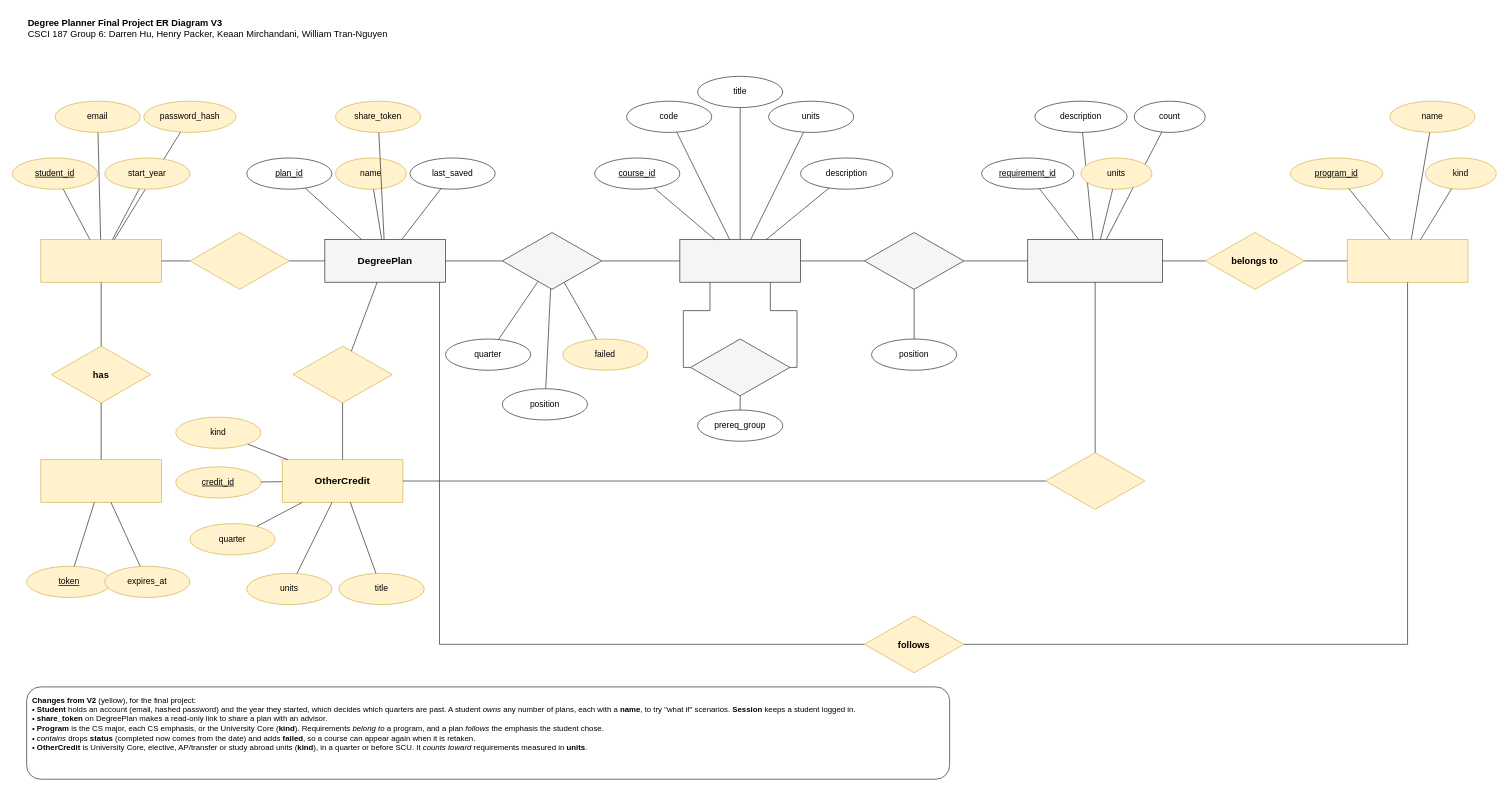
The diagram is 1509 pixels wide and 792 high, and some of its shapes have lost their labels. Here are the shapes that lost their labels. From the top down, the centre of each, then its label:
At pixel 101 260: "Student".
At pixel 239 260: "owns".
At pixel 552 260: "contains".
At pixel 740 260: "Course".
At pixel 914 260: "satisfies".
At pixel 1095 260: "DegreeRequirement".
At pixel 1407 260: "Program".
At pixel 342 374: "includes".
At pixel 740 367: "requires".
At pixel 101 480: "Session".
At pixel 1095 480: "counts toward".
